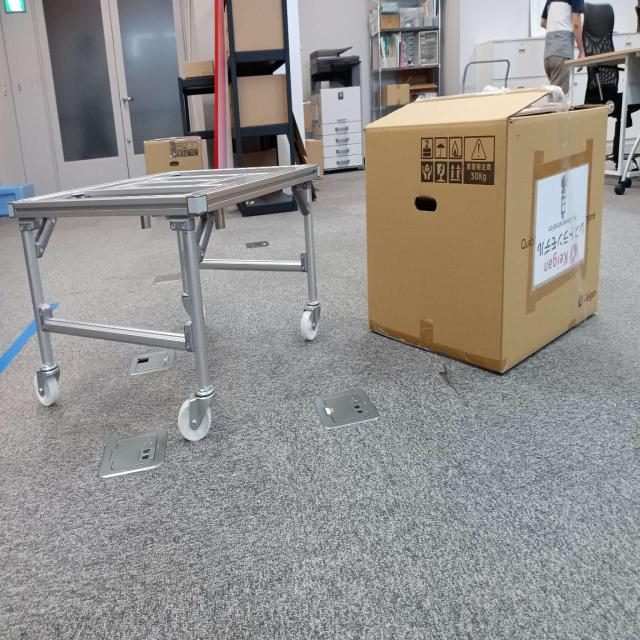box: (364, 94, 602, 362)
door: (188, 169, 312, 261)
side: (12, 205, 200, 352)
